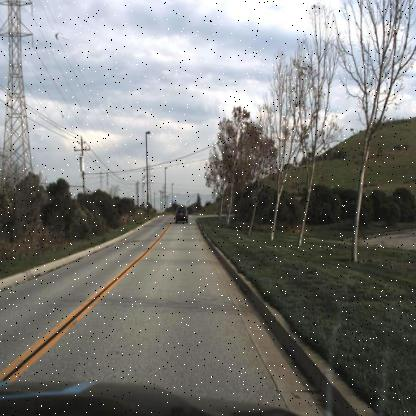car: (174, 200, 190, 227)
